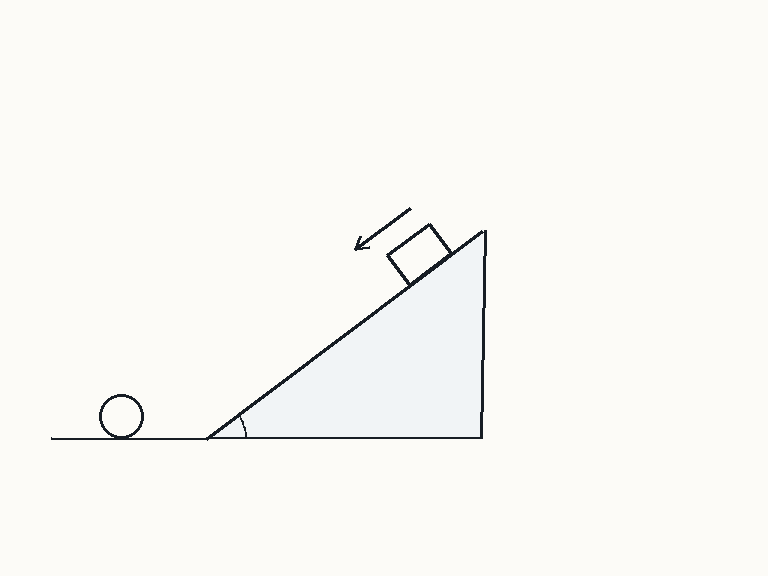ball: (97, 392, 145, 440)
block: (385, 222, 453, 286)
ramp: (204, 228, 484, 440)
